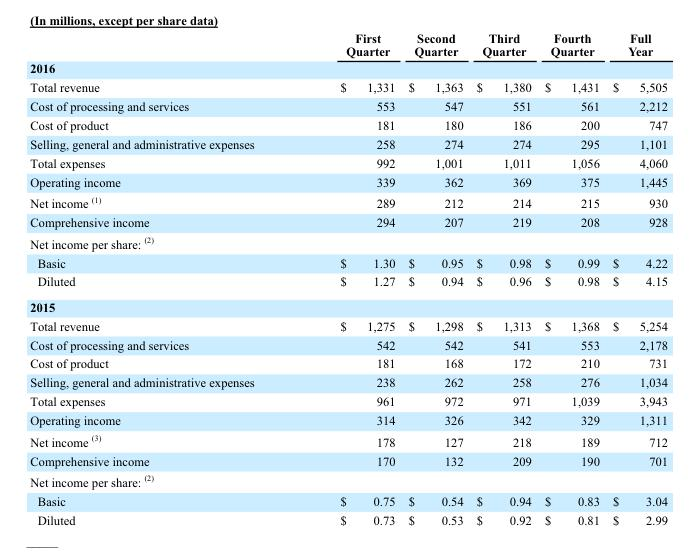table: (29, 29, 667, 527)
table column: (29, 29, 296, 527), (296, 29, 401, 527), (401, 29, 469, 527), (469, 29, 537, 527), (537, 29, 605, 527), (605, 29, 667, 527)
table column header: (29, 29, 667, 58)
table projected row header: (29, 293, 667, 315), (29, 231, 667, 252), (29, 470, 667, 491), (29, 58, 667, 77)
table row: (29, 29, 667, 58), (29, 271, 667, 293), (29, 293, 667, 315), (29, 191, 667, 212), (29, 231, 667, 252), (29, 429, 667, 450), (29, 470, 667, 491), (29, 171, 667, 191), (29, 450, 667, 470), (29, 58, 667, 77), (29, 77, 667, 96), (29, 96, 667, 115), (29, 115, 667, 134), (29, 152, 667, 171), (29, 212, 667, 231), (29, 252, 667, 271), (29, 315, 667, 334), (29, 334, 667, 353), (29, 353, 667, 372), (29, 372, 667, 391), (29, 391, 667, 410), (29, 410, 667, 429), (29, 491, 667, 510), (29, 134, 667, 152), (29, 510, 667, 527)
